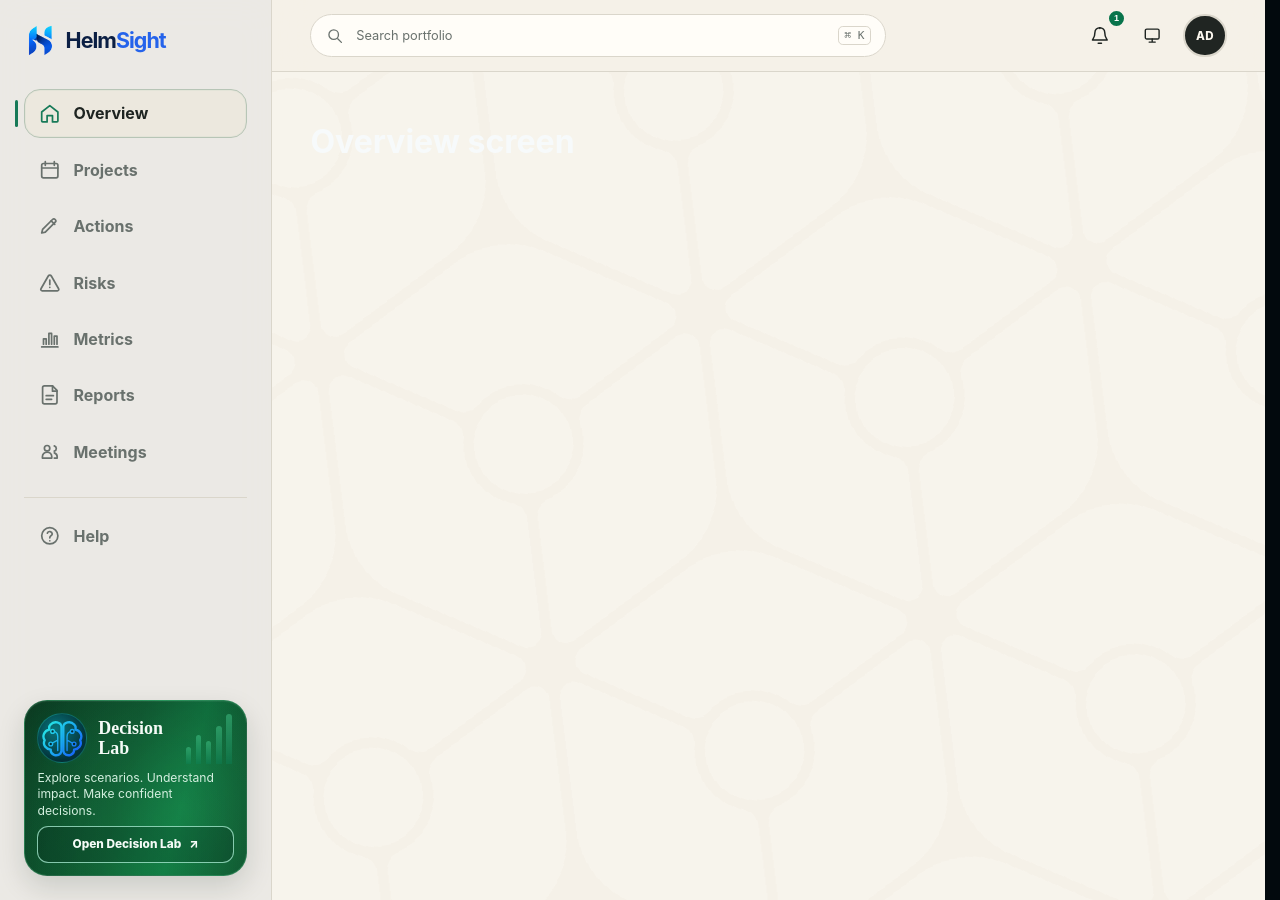
it: GlobalSearch › opens from the header, navigates by keyboard and stores a recent item
This screenshot has width=1280, height=900.
Click the button "Search portfolio ⌘ K": click(404, 36) [310, 14, 886, 57]
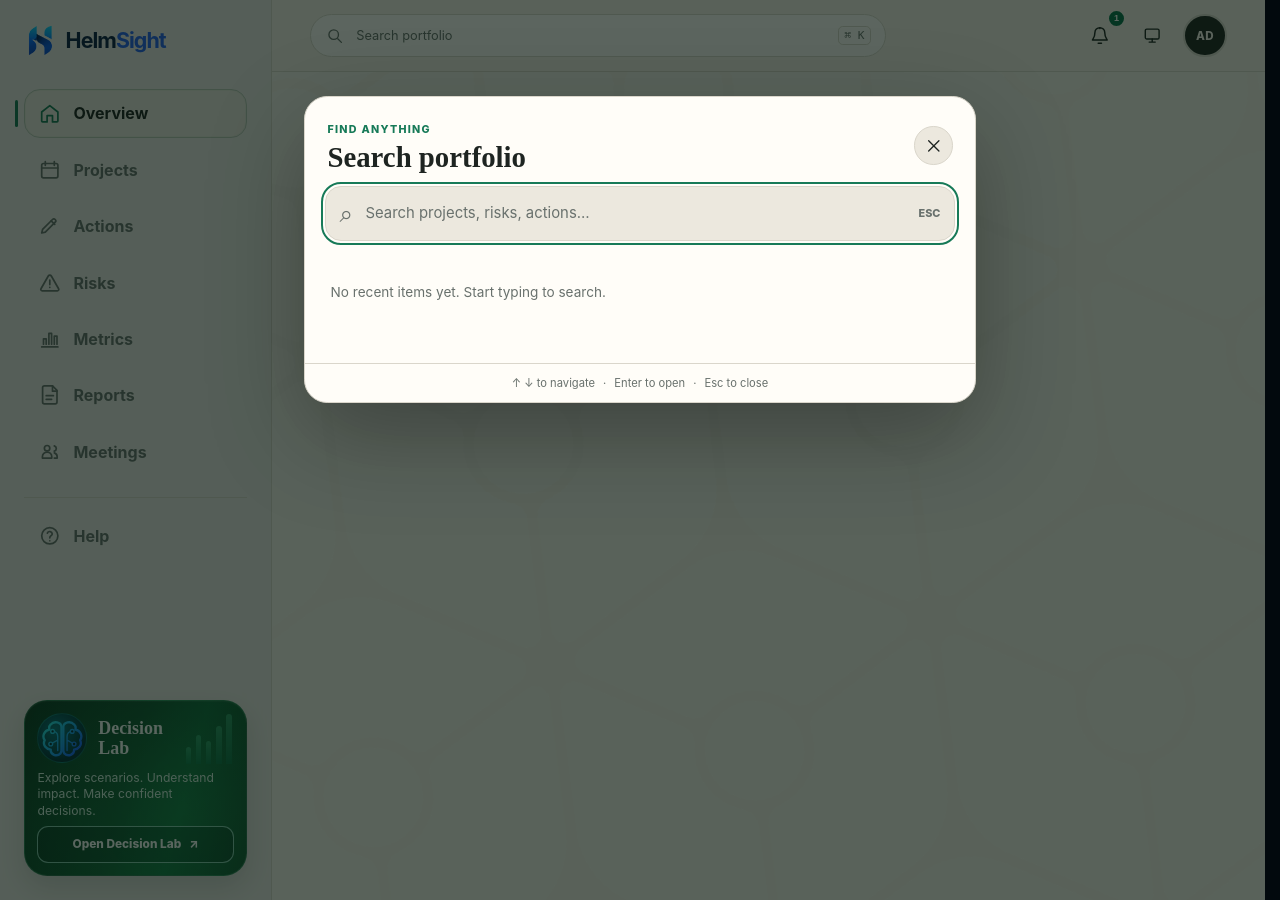
In the dropdown named "Search across portfolio": (636, 213) [363, 193, 908, 234], type "Vendor"
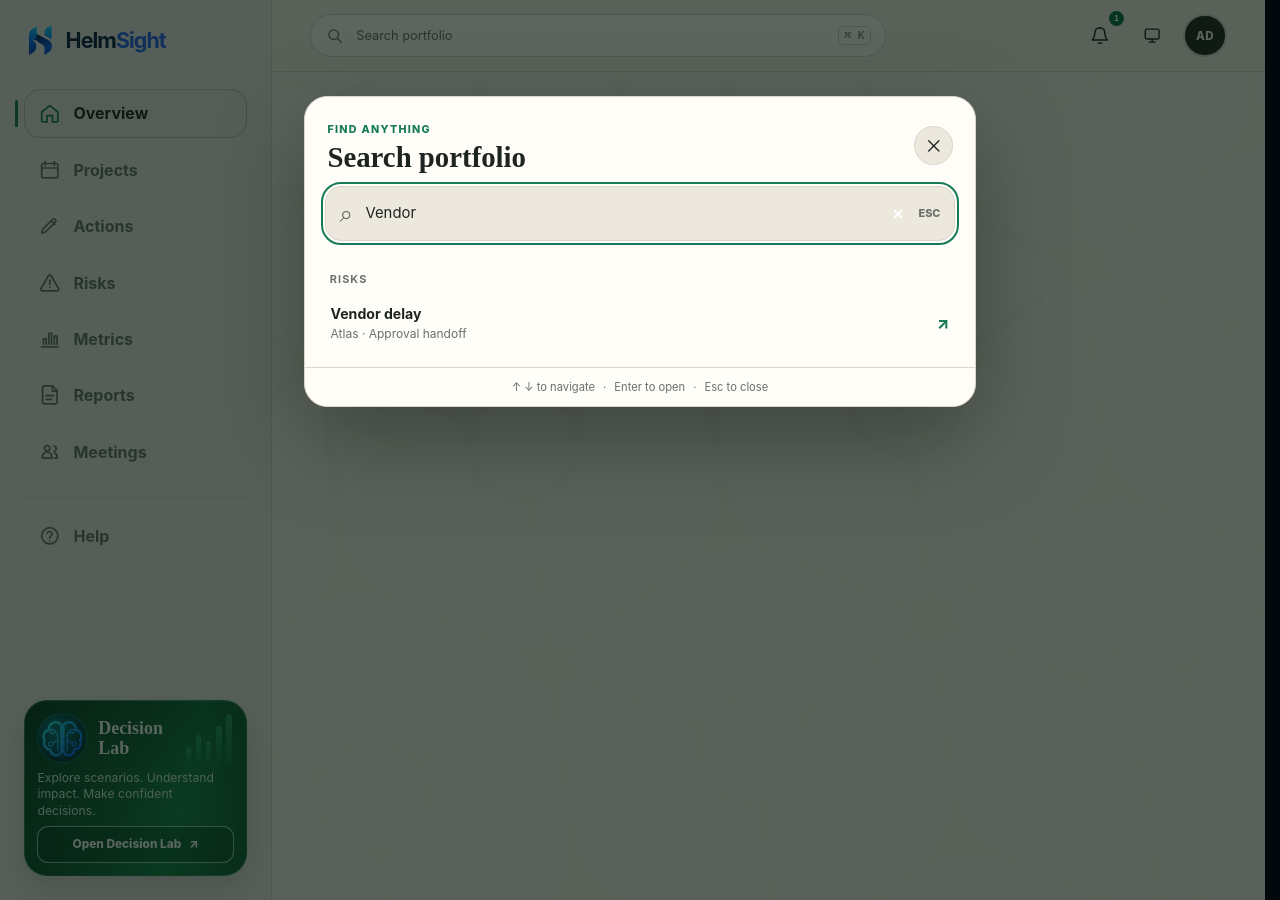
Expected: the text "Vendor delay" is shown, [331, 305, 422, 322]
Press Arrowdown Enter
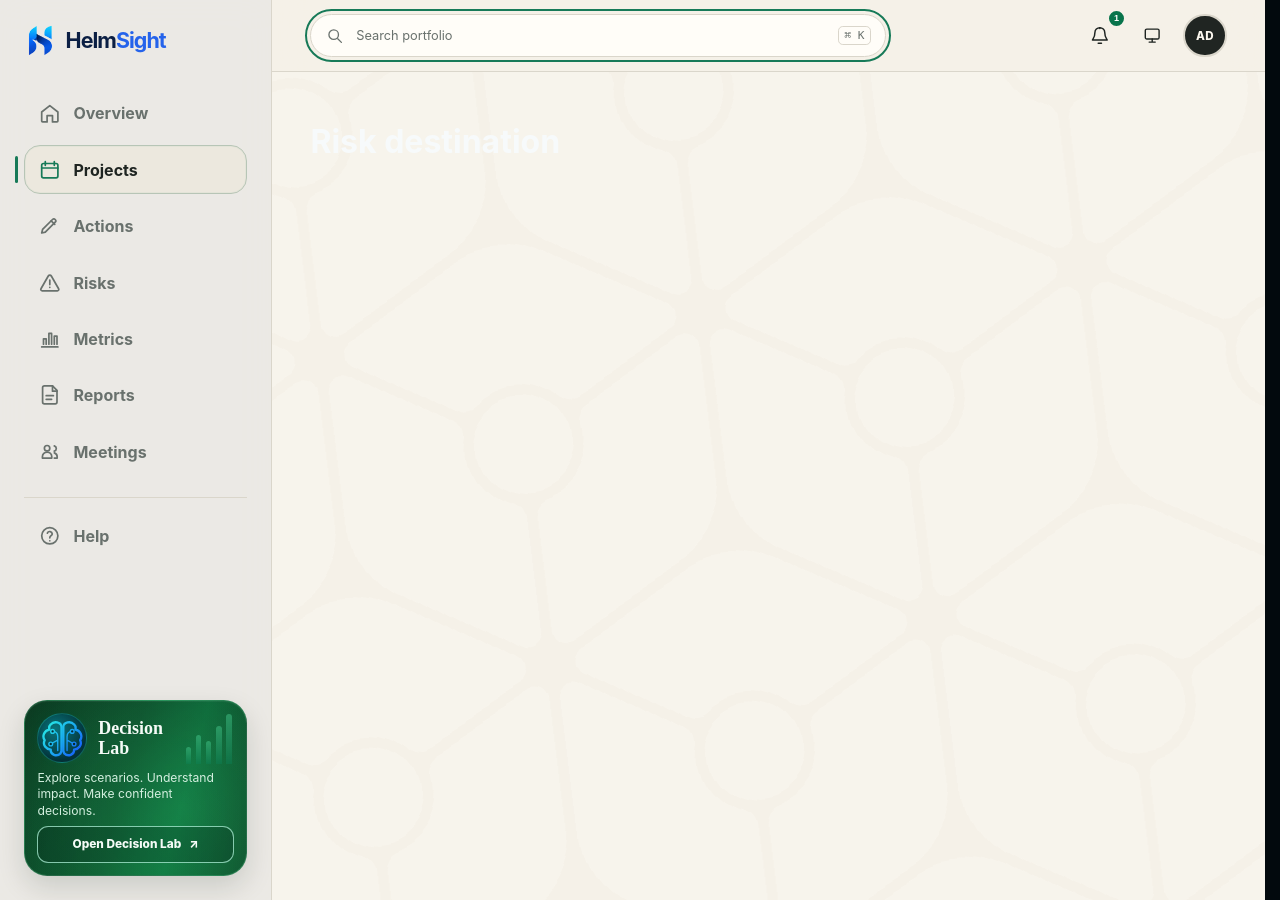
Expected: the dialog is gone
